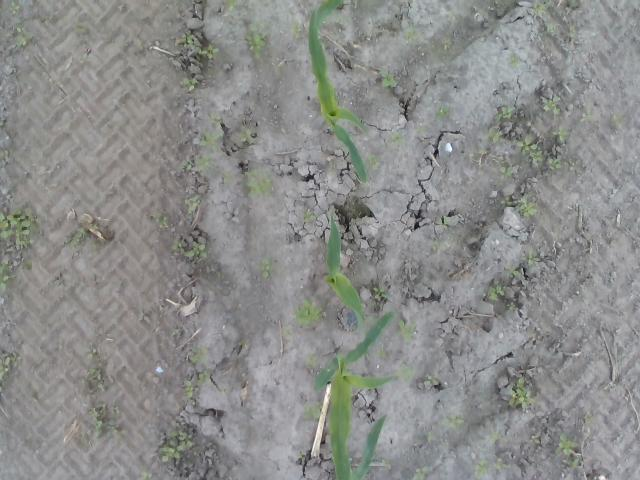Maize: (312, 311, 394, 480), (306, 0, 368, 185), (322, 215, 365, 334)
Weeds: (0, 209, 37, 251), (154, 427, 194, 464), (78, 344, 105, 390), (514, 135, 547, 165), (62, 224, 100, 250), (242, 168, 274, 197), (509, 377, 536, 411), (87, 403, 117, 433), (555, 432, 579, 469), (0, 351, 21, 393), (245, 22, 268, 60), (294, 296, 322, 326), (169, 237, 207, 259), (472, 458, 508, 480), (174, 154, 212, 172), (198, 130, 224, 154), (302, 399, 326, 422), (477, 128, 506, 145), (493, 103, 513, 126), (397, 318, 416, 342), (518, 198, 540, 218), (0, 260, 12, 294), (187, 344, 207, 364), (484, 282, 506, 300), (380, 68, 398, 90), (196, 43, 218, 61), (14, 24, 32, 46), (180, 74, 200, 93), (152, 208, 170, 229), (255, 258, 272, 280), (542, 96, 562, 114), (366, 152, 383, 172), (399, 30, 417, 48), (184, 196, 202, 214), (236, 126, 255, 142), (416, 464, 434, 480), (196, 370, 212, 387), (447, 414, 464, 430), (303, 354, 319, 370), (392, 128, 406, 145), (179, 32, 196, 46), (401, 365, 415, 382), (372, 286, 389, 300), (430, 238, 449, 250), (6, 0, 20, 16), (302, 207, 315, 224), (497, 194, 514, 207), (280, 322, 295, 336), (500, 166, 516, 179), (547, 158, 564, 170), (506, 51, 520, 64), (182, 384, 195, 398), (424, 374, 439, 386), (558, 125, 568, 142), (532, 2, 544, 16), (438, 214, 452, 226), (0, 148, 11, 163), (210, 111, 222, 124), (224, 0, 237, 12), (488, 431, 500, 444), (502, 270, 520, 278), (436, 106, 448, 118), (447, 11, 458, 24), (374, 350, 389, 359), (291, 22, 303, 33), (580, 110, 592, 120), (530, 435, 542, 445), (527, 250, 535, 264), (504, 300, 514, 311), (478, 148, 488, 158), (568, 26, 576, 38), (140, 473, 152, 480), (583, 415, 592, 424), (379, 458, 387, 464)
